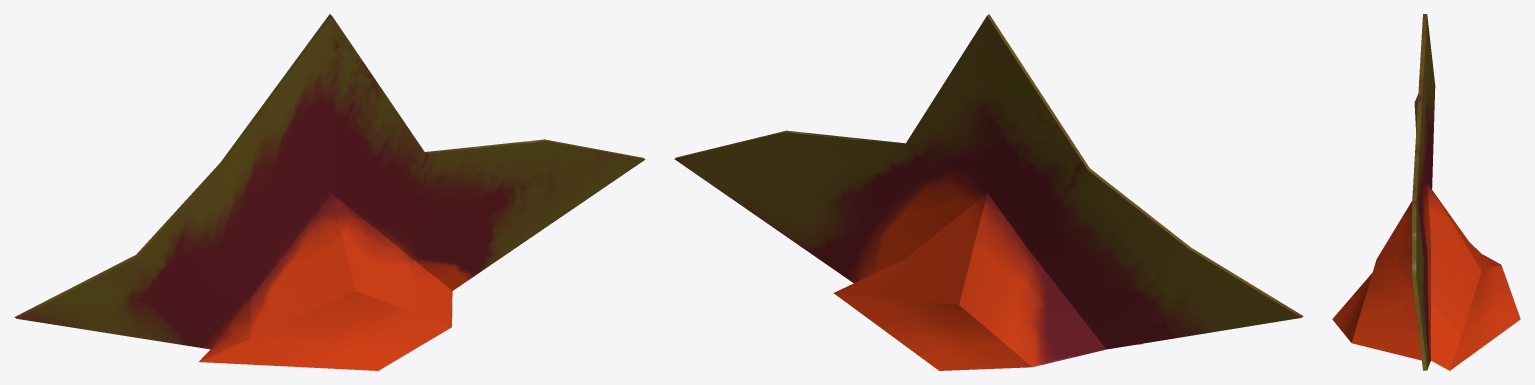
The model's file is Plant_One.fbx.
The picture shows the model from 3 angles, left to right: view 1: azimuth 30°, elevation 25°; view 2: azimuth 150°, elevation 25°; view 3: azimuth 270°, elevation 25°; orthographic projection. The views are drawn at different scales.
Parts seen in each view (by area): view 1: pCube2; view 2: pCube2; view 3: pCube2.
Boxes of the visible parts, x1,y1,x2,y2 form: pCube2: [14, 14, 645, 370]; pCube2: [674, 14, 1303, 370]; pCube2: [1332, 14, 1520, 370].
Size of the model in its own units: 3.95 by 1.92 by 1.07.
1 material, 1 textured.
